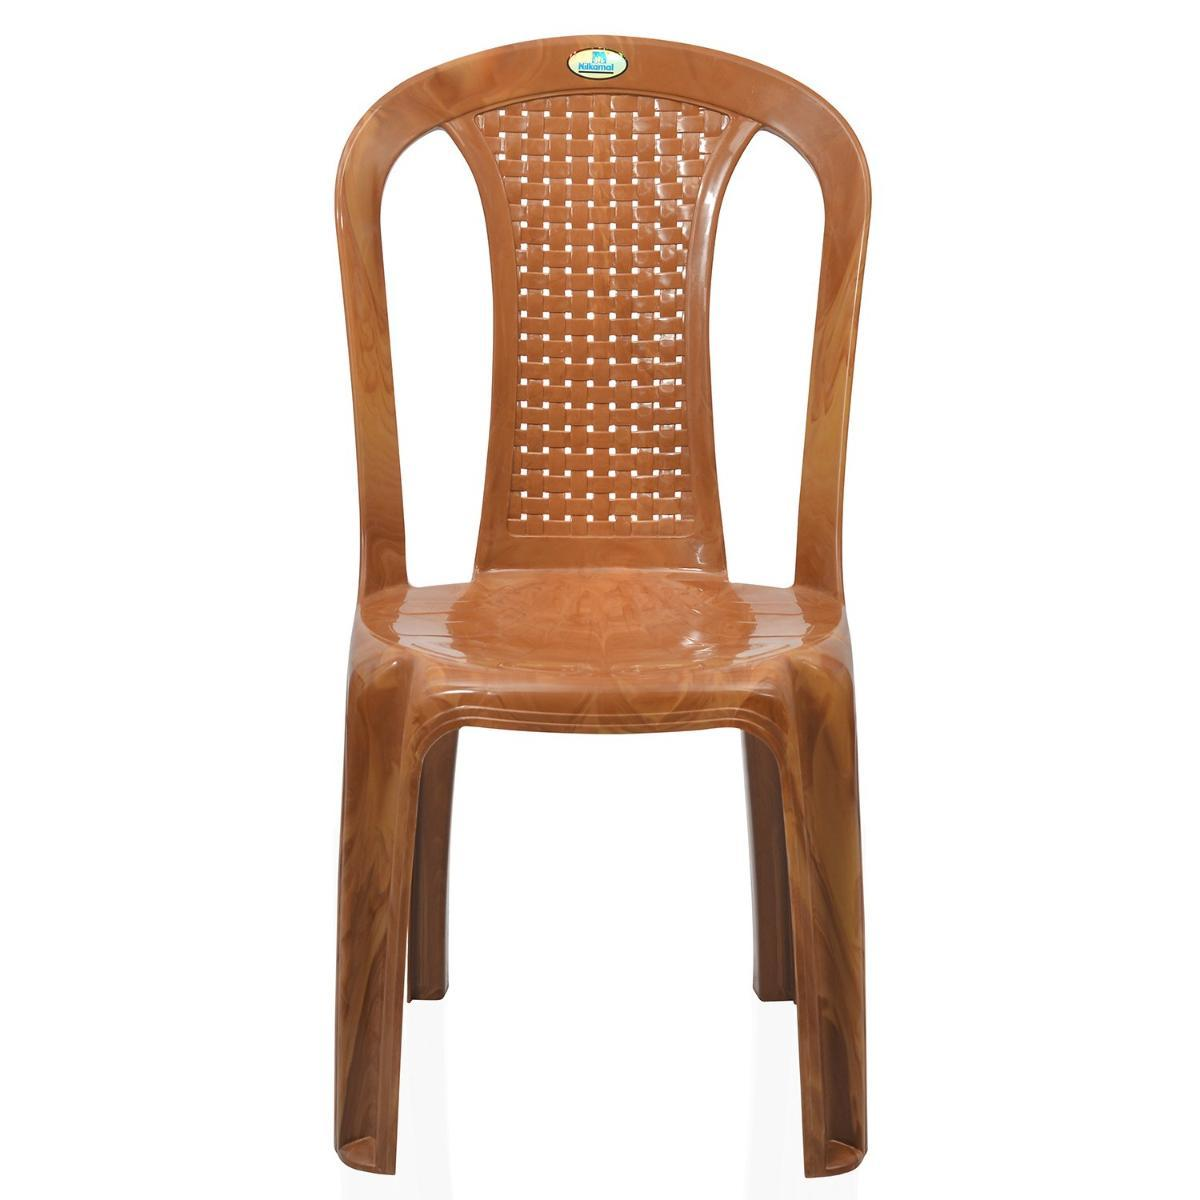Chair: (314, 33, 880, 1176)
